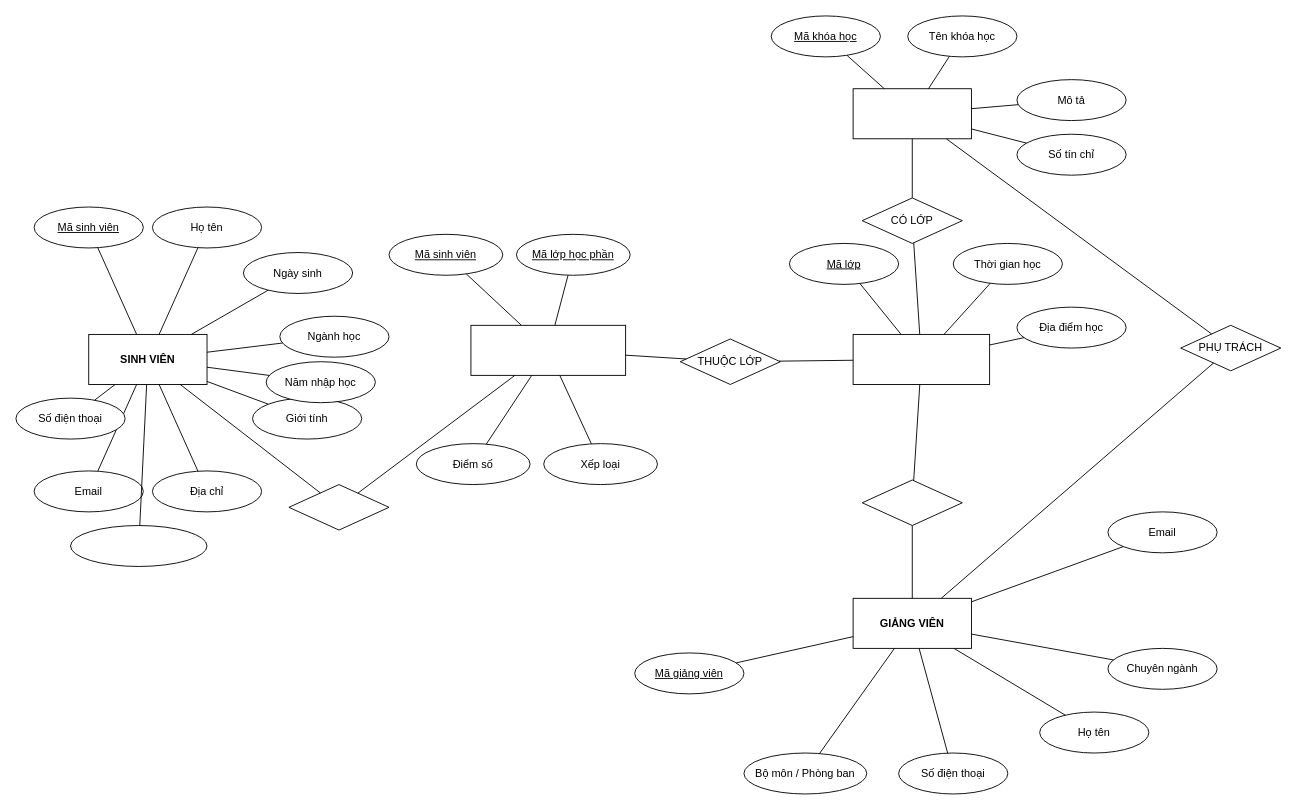
Image size: 1297x810. Some labels were removed from this diagram. Each missing label, with the box of its shape:
CÓ KẾT QUẢ: (288, 484, 389, 530)
GIẢNG DẠY: (861, 479, 962, 526)
KHÓA HỌC: (852, 88, 971, 139)
KẾT QUẢ HỌC TẬP: (470, 324, 626, 375)
LỚP HỌC PHẦN: (852, 334, 990, 384)
Trạng thái học tập: (70, 525, 207, 566)
